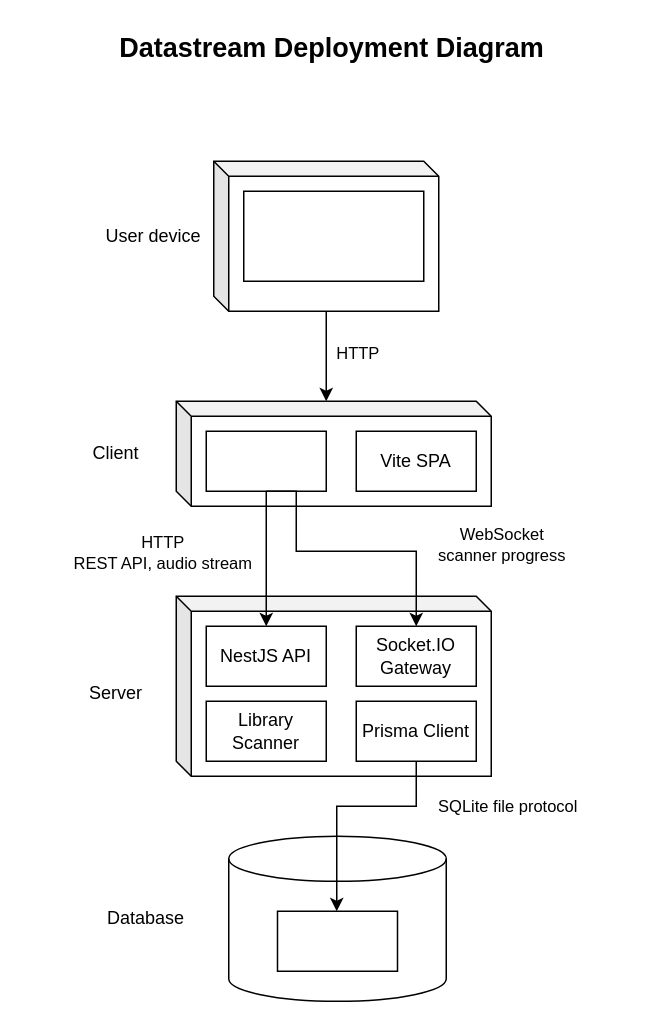
Some shapes in this 657 by 1028 pixel diagram are drawn without their labels. Here are the shapes that lost their labels. From the top down, the centre of each, then its label:
At (x=333, y=235): "Browser".
At (x=265, y=460): "Nginx".
At (x=337, y=940): "SQLite".
